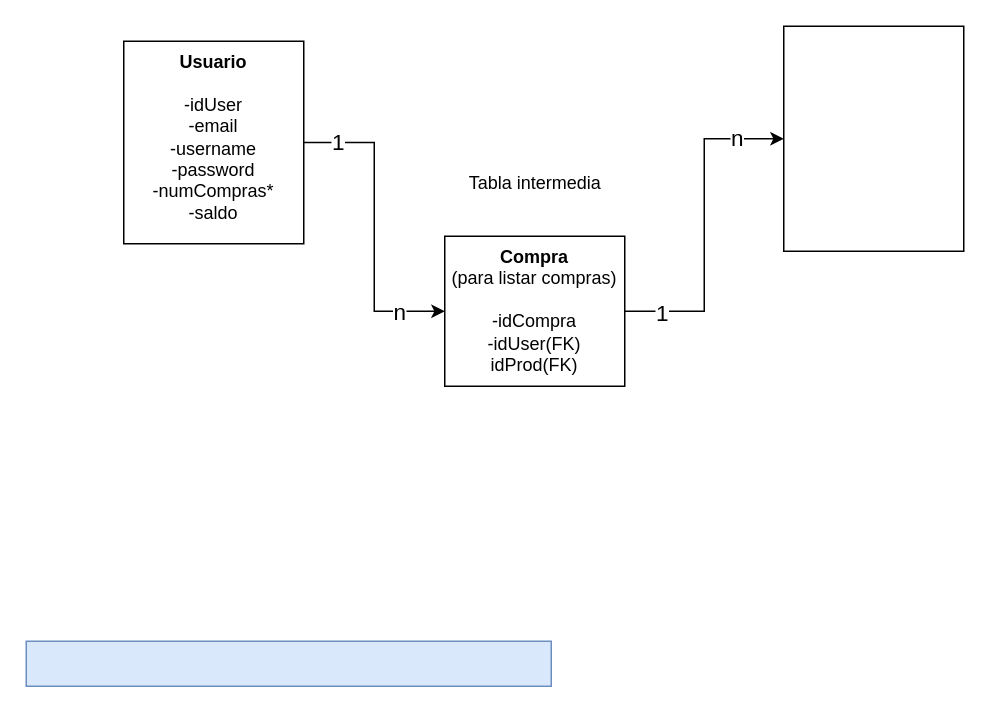
Image size: 990x713. Some labels were removed from this diagram. The shapes that lost their labels are listed below. From the top down, each one's centre as x and y in pixels, then its label:
the point at 873,138: Producto -idProd -nombreProd -marca -foto -precioProd -unidProd -talla
the point at 288,663: numCompras: SELECT * FROM Producto WHERE idUser=1
